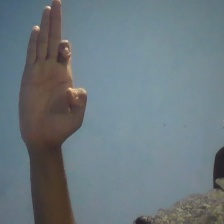F: (16, 1, 90, 148)
